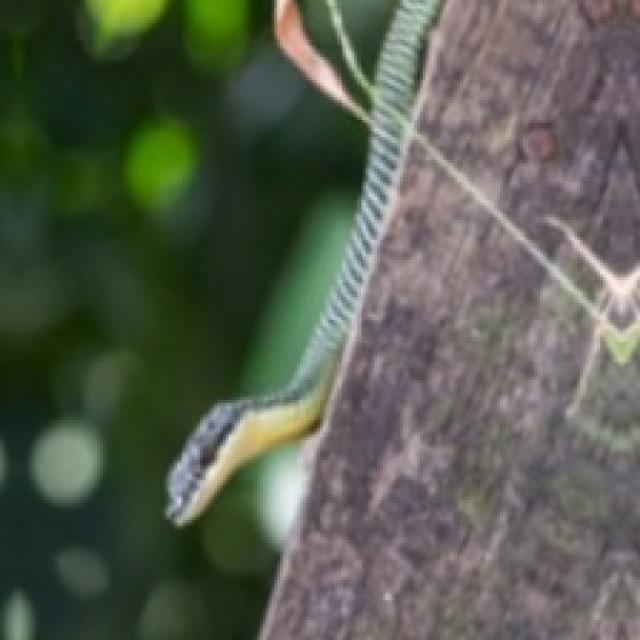paradise tree snake: (166, 0, 637, 549), (166, 0, 437, 523)
